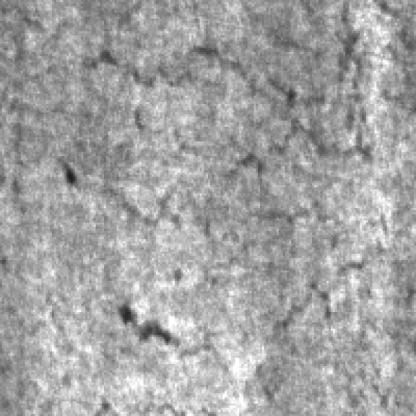crazing: (70, 148, 406, 324), (81, 6, 397, 156)
